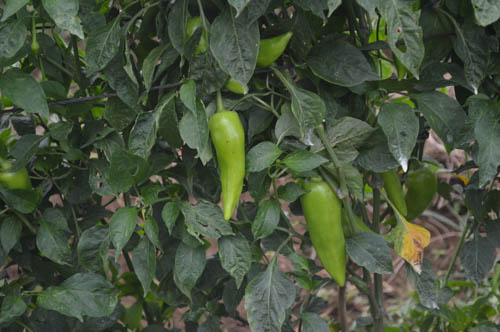ChiliPepper: (303, 179, 353, 287), (186, 20, 248, 95), (207, 111, 242, 225), (387, 170, 439, 230), (256, 34, 291, 69), (385, 171, 406, 218)
